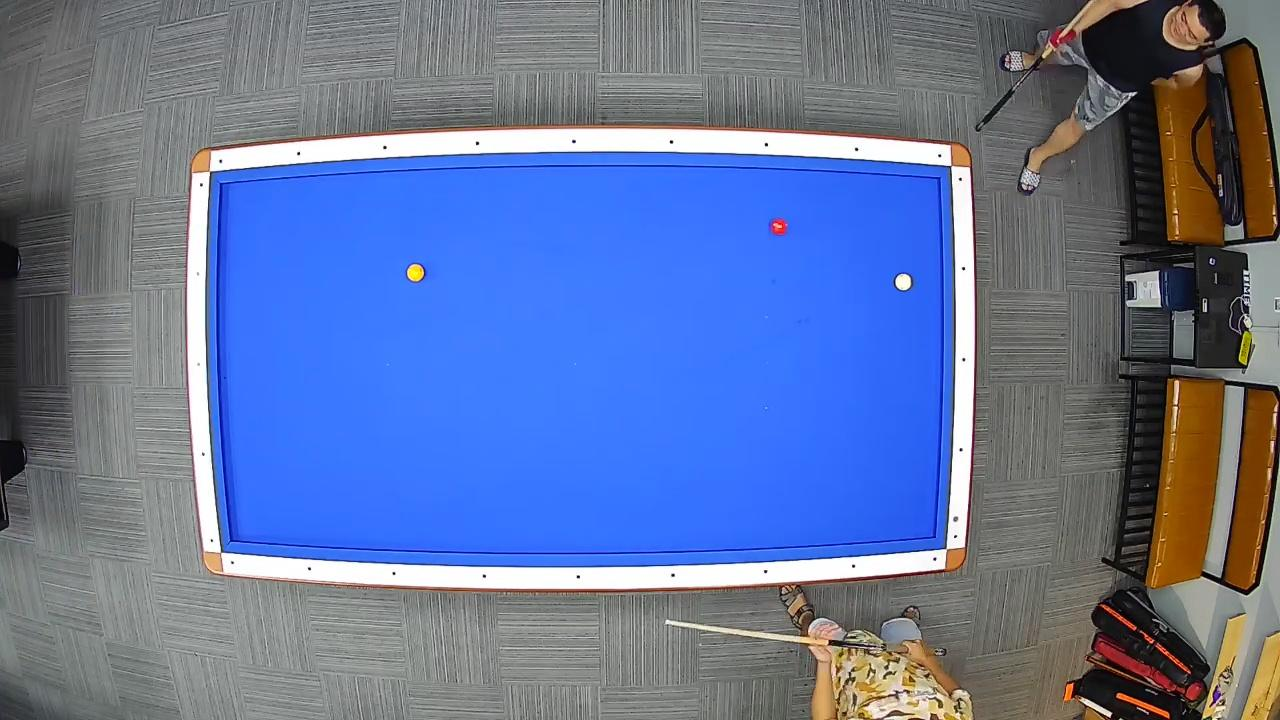Red: (770, 216, 788, 236)
White: (894, 272, 912, 292)
Yellow: (404, 261, 426, 283)
